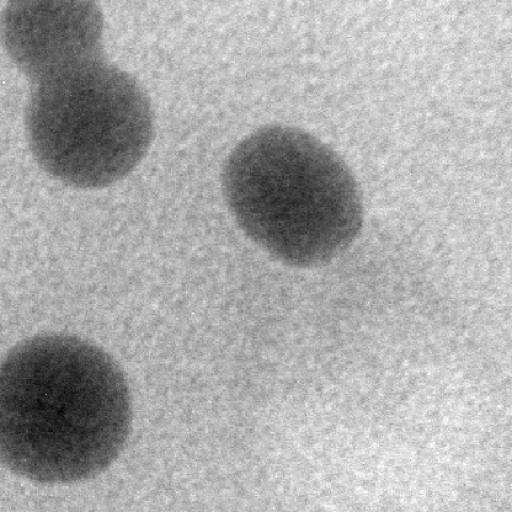Nanoparticles: (0, 329, 138, 483), (224, 121, 366, 267), (25, 64, 158, 190), (4, 1, 106, 73)
